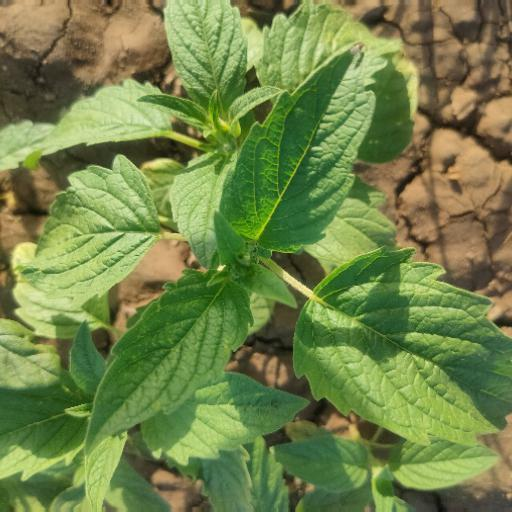crop: (9, 3, 498, 501)
